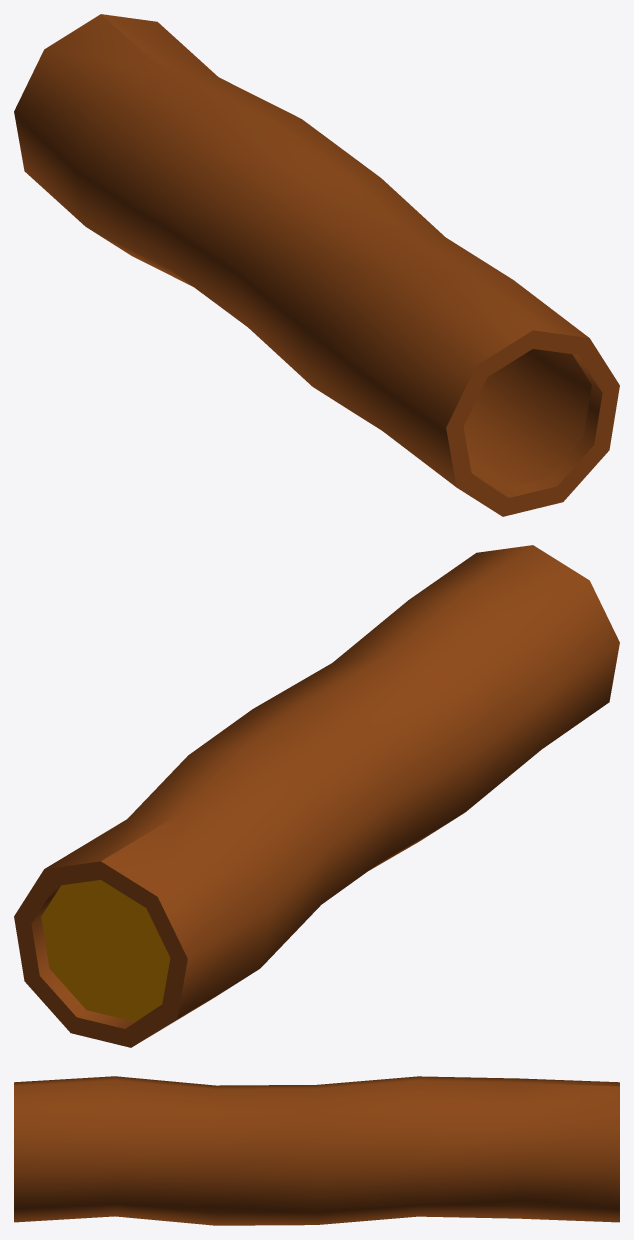
Rendered from WoodPlatformBaseColor.fbx.
The picture shows the model from 3 angles, top to bottom: view 1: azimuth 30°, elevation 25°; view 2: azimuth 150°, elevation 25°; view 3: azimuth 270°, elevation 25°; orthographic projection. The views are drawn at different scales.
Parts seen in each view (by area): view 1: Trunk; view 2: Trunk, Filler; view 3: Trunk.
Part boxes in pixels (x1,y1,x2,y2): Trunk: (14,14,619,516); Trunk: (14,545,619,1047); Filler: (41,880,170,1021); Trunk: (14,1076,619,1225).
Size of the model in its own units: 153 by 146 by 594.
